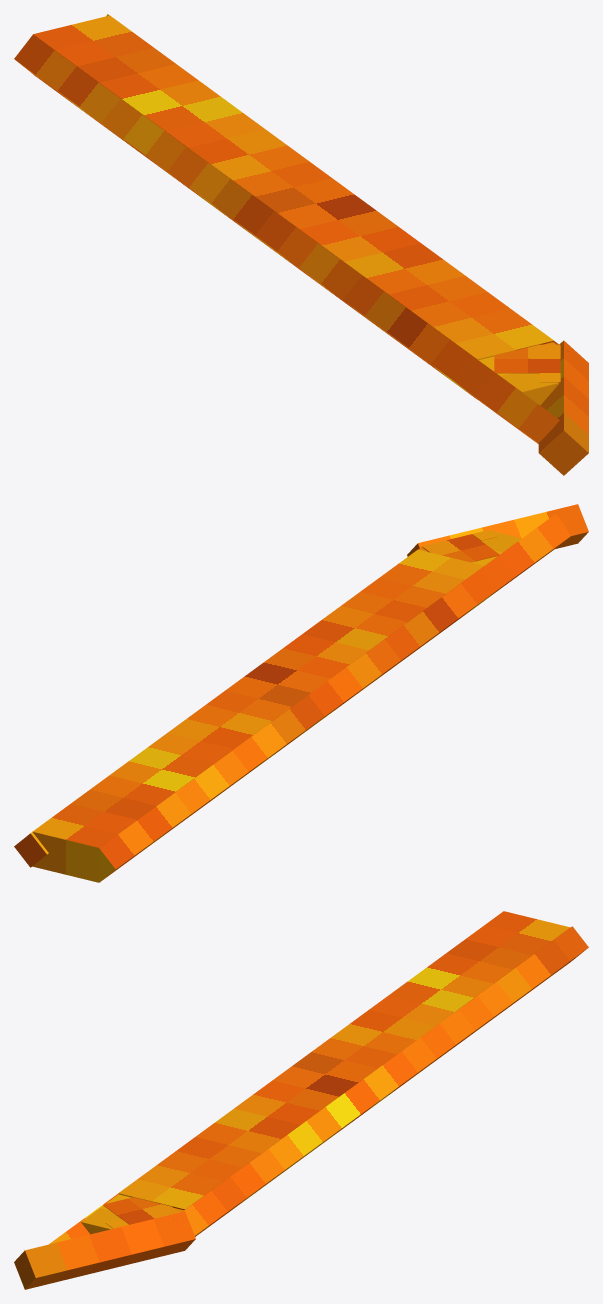
Rendered from cinderblade.obj.
3 renders of one model, top to bottom at view 1: azimuth 30°, elevation 25°; view 2: azimuth 150°, elevation 25°; view 3: azimuth 330°, elevation 25°, orthographic. The views are drawn at different scales.
Visible parts, largest first — view 1: Base; view 2: Base; view 3: Base.
Boxes of the visible parts, x1,y1,x2,y2 form: Base: (14, 14, 588, 475); Base: (14, 504, 588, 882); Base: (14, 911, 588, 1289).
Size of the model in its own units: 0.2112 by 0.0707 by 1.55.
